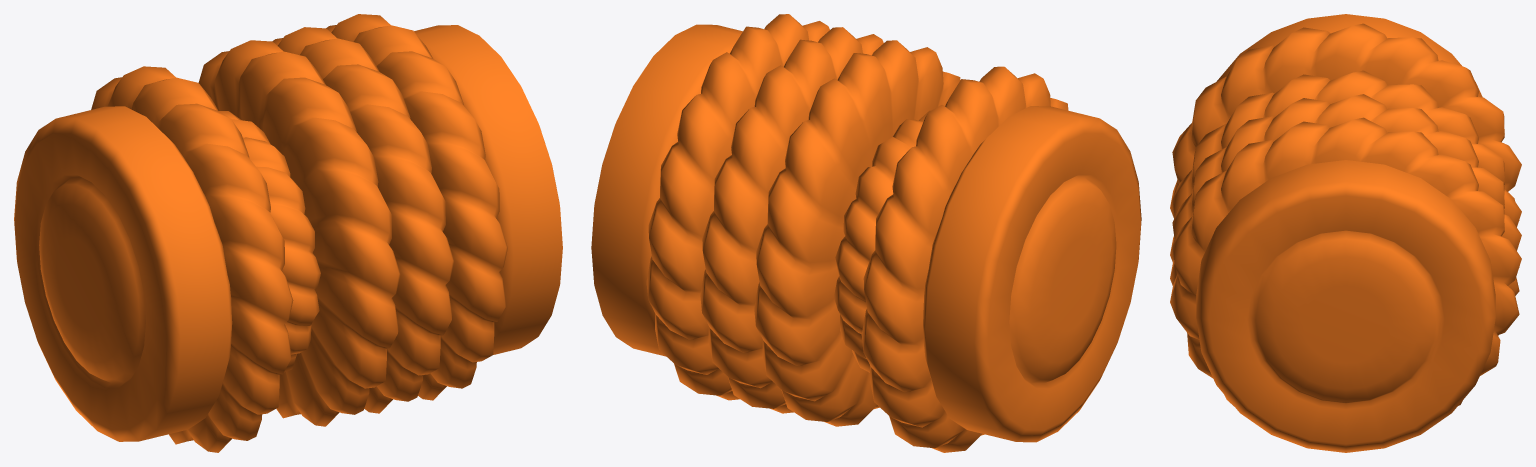
File: Skein.fbx
3 renders of one model, left to right at view 1: azimuth 30°, elevation 25°; view 2: azimuth 150°, elevation 25°; view 3: azimuth 270°, elevation 25°, orthographic. The views are drawn at different scales.
Visible parts, largest first — view 1: Skein_top, Knit_Skein__2_, Knit_Skein__4_, Knit_Skein, Knit_Skein__1_, Skein_bot, Knit_Skein__3_; view 2: Skein_top, Knit_Skein__2_, Knit_Skein__4_, Knit_Skein__1_, Knit_Skein, Skein_bot, Knit_Skein__3_; view 3: Skein_bot, Knit_Skein, Knit_Skein__4_, Knit_Skein__1_, Knit_Skein__2_, Skein_top.
Boxes of the visible parts, left/top/right/bottom form: Skein_top: left=14, top=106, right=232, bottom=441; Knit_Skein__2_: left=198, top=40, right=400, bottom=426; Knit_Skein__4_: left=91, top=66, right=293, bottom=452; Knit_Skein: left=326, top=14, right=507, bottom=400; Knit_Skein__1_: left=272, top=27, right=454, bottom=413; Skein_bot: left=414, top=25, right=562, bottom=354; Knit_Skein__3_: left=219, top=111, right=320, bottom=372; Skein_top: left=923, top=106, right=1141, bottom=442; Knit_Skein__2_: left=754, top=40, right=960, bottom=426; Knit_Skein__4_: left=861, top=66, right=1068, bottom=452; Knit_Skein__1_: left=700, top=27, right=883, bottom=413; Knit_Skein: left=646, top=14, right=829, bottom=400; Skein_bot: left=591, top=24, right=742, bottom=356; Knit_Skein__3_: left=834, top=110, right=930, bottom=372; Skein_bot: left=1196, top=160, right=1495, bottom=452; Knit_Skein: left=1170, top=117, right=1521, bottom=405; Knit_Skein__4_: left=1170, top=23, right=1521, bottom=220; Knit_Skein__1_: left=1170, top=94, right=1521, bottom=335; Knit_Skein__2_: left=1170, top=70, right=1521, bottom=267; Skein_top: left=1217, top=14, right=1482, bottom=97.
Bounding box in the file's own units: 833 × 685 × 680.
